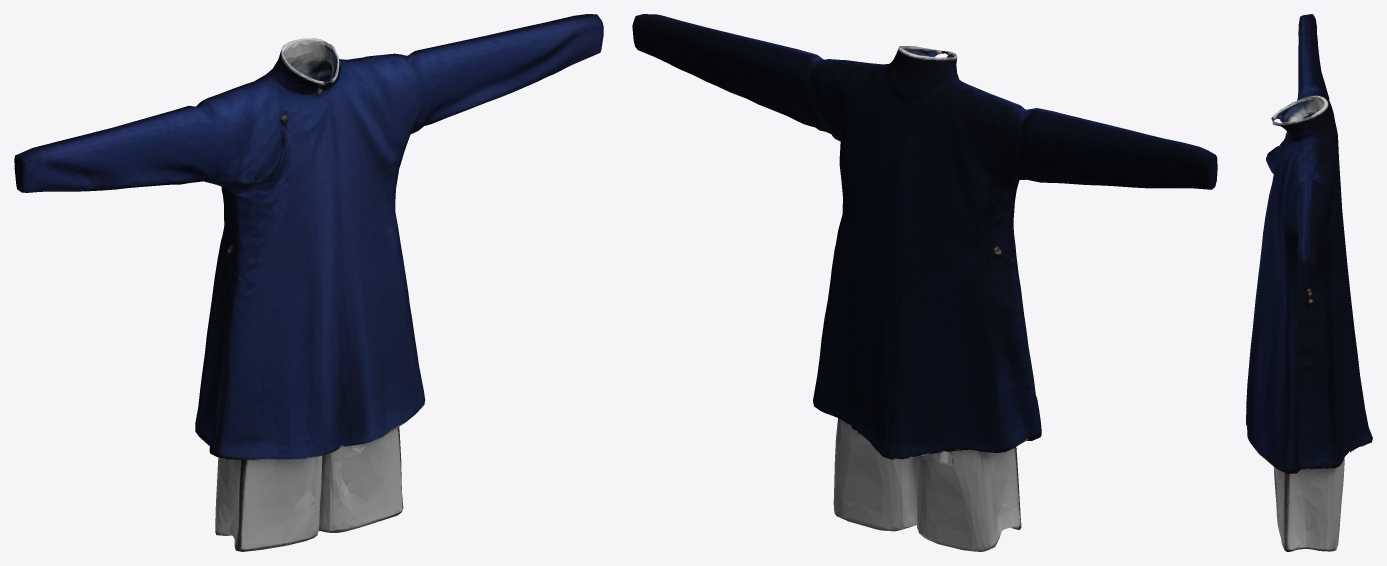
The model's file is nguthan.glb.
3 renders of one model, left to right at view 1: azimuth 30°, elevation 25°; view 2: azimuth 150°, elevation 25°; view 3: azimuth 270°, elevation 25°, orthographic. The views are drawn at different scales.
Parts seen in each view (by area): view 1: world; view 2: world; view 3: world.
Boxes of the visible parts, bbox=[...] form: world: bbox=[14, 14, 603, 551]; world: bbox=[632, 14, 1217, 551]; world: bbox=[1246, 14, 1372, 551].
Size of the model in its own units: 0.9961 by 0.7875 by 0.2166.
1 material, 1 textured.
